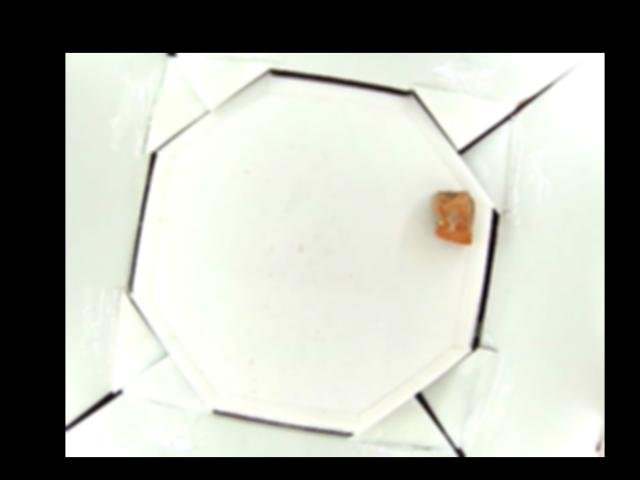Brisk: (431, 190, 474, 245)
